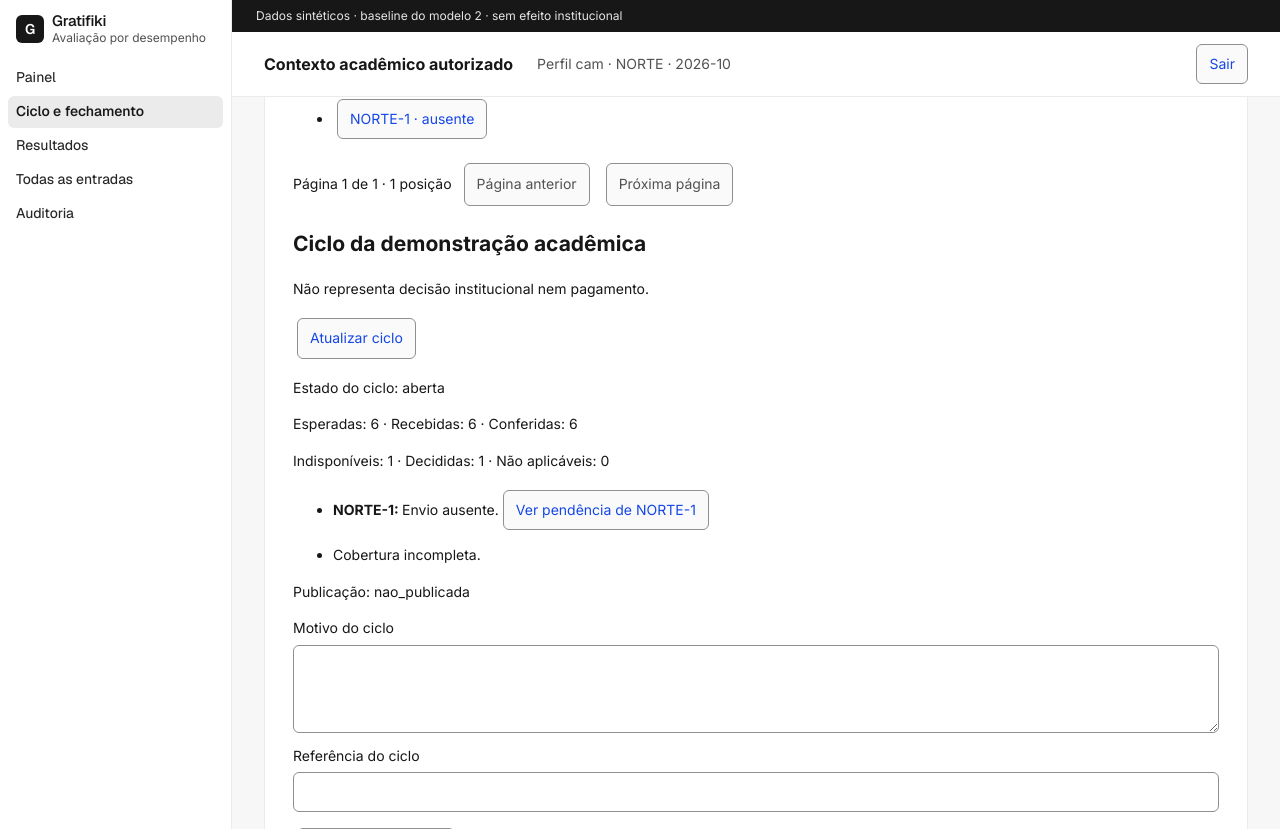
Test: identifies an authorized blocker and opens its real detail without inventing hidden targets
(page scrolled)
What coordinates should you click on to do the following:
click the button "Ver pendência de NORTE-1"
I would click on:
 (606, 510)
Its box is [503,490,709,530].
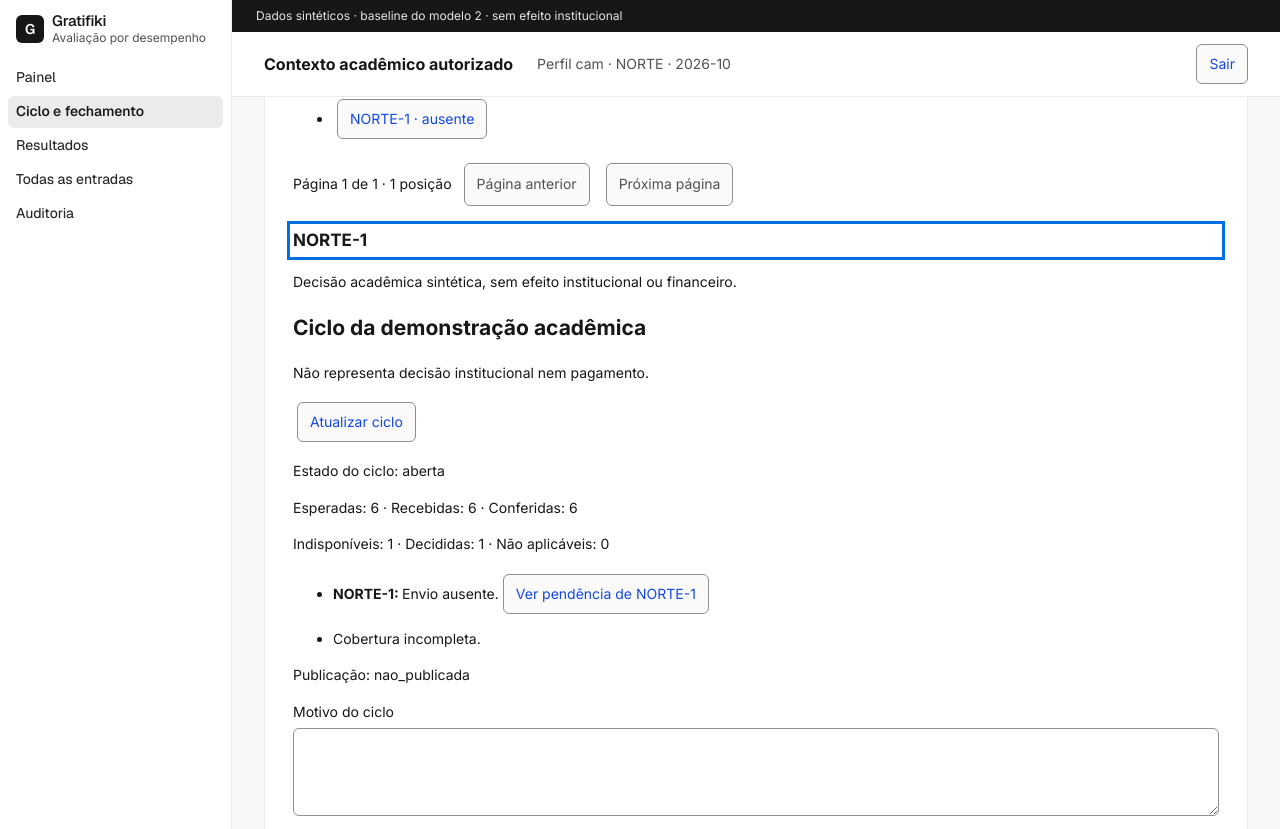
Expected: the heading "NORTE-1" is shown, [293,230,367,250]
